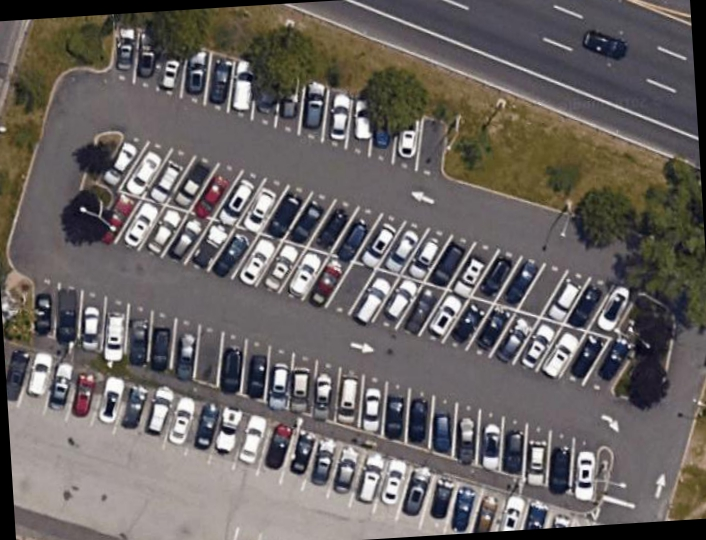parkingspot: (75, 129, 645, 398), (27, 271, 601, 506), (4, 339, 579, 535), (108, 18, 450, 183)
